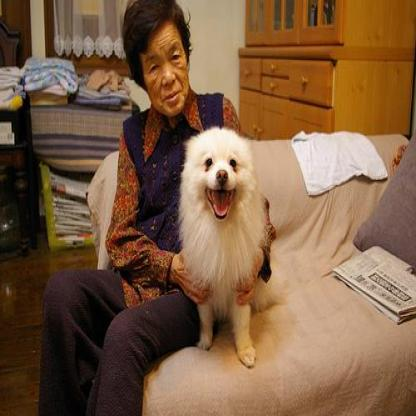Pomeranian: (178, 124, 267, 368)
